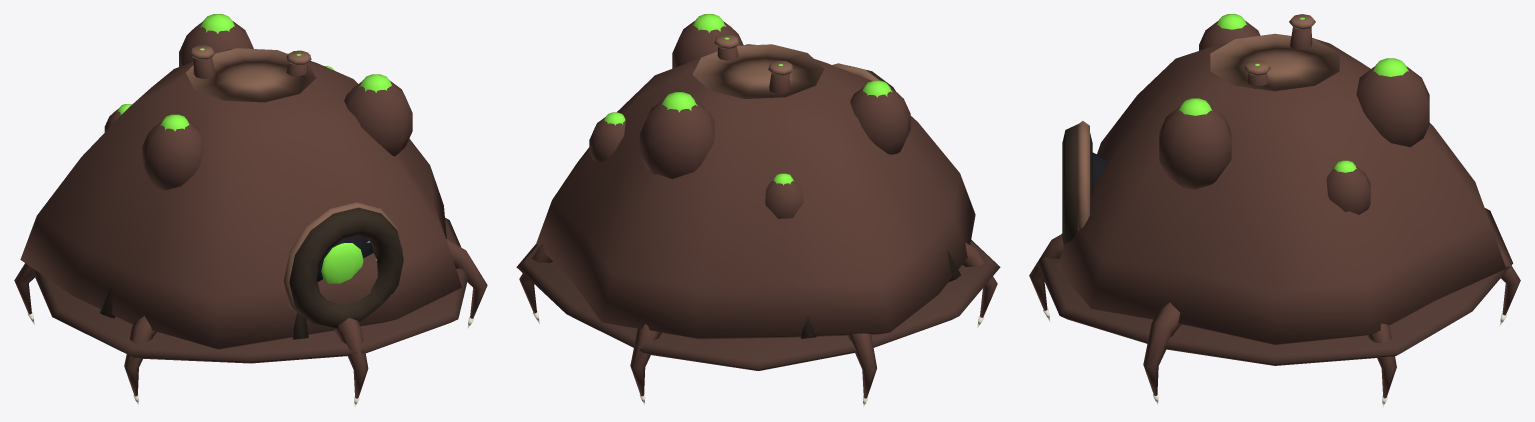
The model's file is nexus_bio.obj.
3 renders of one model, left to right at view 1: azimuth 30°, elevation 25°; view 2: azimuth 150°, elevation 25°; view 3: azimuth 270°, elevation 25°, orthographic. The views are drawn at different scales.
Parts seen in each view (by area): view 1: Mound, Ground, MawRim, MoundTop, Sac_1, Sac_0, Sac_2, MawGlow, Tentacle_4, MawLip, Tentacle_5, Tentacle_3 (+3 smaller); view 2: Mound, Ground, MoundTop, Sac_2, Sac_1, Sac_0, Sac_4, Sac_3, Tentacle_2, Tentacle_1, Tentacle_3, Tentacle_0 (+1 smaller); view 3: Mound, Ground, MoundTop, Sac_0, Sac_2, MawRim, Sac_3, Tentacle_5, MawLip, Sac_1, Tentacle_0, Tentacle_4 (+4 smaller).
Boxes of the visible parts, x1,y1,x2,y2 form: Mound: (20, 49, 461, 349); Ground: (32, 217, 468, 363); MawRim: (289, 207, 403, 328); MoundTop: (186, 48, 315, 102); Sac_1: (142, 121, 204, 190); Sac_0: (344, 81, 412, 156); Sac_2: (179, 21, 253, 66); MawGlow: (321, 243, 363, 283); Tentacle_4: (334, 318, 368, 398); MawLip: (283, 202, 403, 315); Tentacle_5: (446, 239, 487, 318); Tentacle_3: (124, 316, 156, 396); Mound: (536, 44, 975, 339); Ground: (516, 239, 1000, 370); MoundTop: (692, 44, 823, 98); Sac_2: (639, 99, 714, 178); Sac_1: (850, 87, 910, 154); Sac_0: (672, 21, 743, 68); Sac_4: (765, 179, 803, 218); Sac_3: (589, 117, 625, 163); Tentacle_2: (846, 333, 876, 398); Tentacle_1: (630, 324, 661, 396); Tentacle_3: (962, 242, 997, 317); Tentacle_0: (519, 243, 552, 313); Mound: (1057, 38, 1505, 345); Ground: (1036, 208, 1513, 365); MoundTop: (1210, 33, 1339, 91); Sac_0: (1159, 106, 1231, 189); Sac_2: (1356, 66, 1429, 147); MawRim: (1062, 124, 1092, 245); Sac_3: (1326, 166, 1370, 214); Tentacle_5: (1143, 302, 1181, 395); MawLip: (1077, 121, 1089, 230); Sac_1: (1199, 21, 1260, 50); Tentacle_0: (1367, 323, 1396, 398); Tentacle_4: (1029, 234, 1063, 310).
Bounding box in the file's own units: 10.5 × 7.01 × 10.83.
